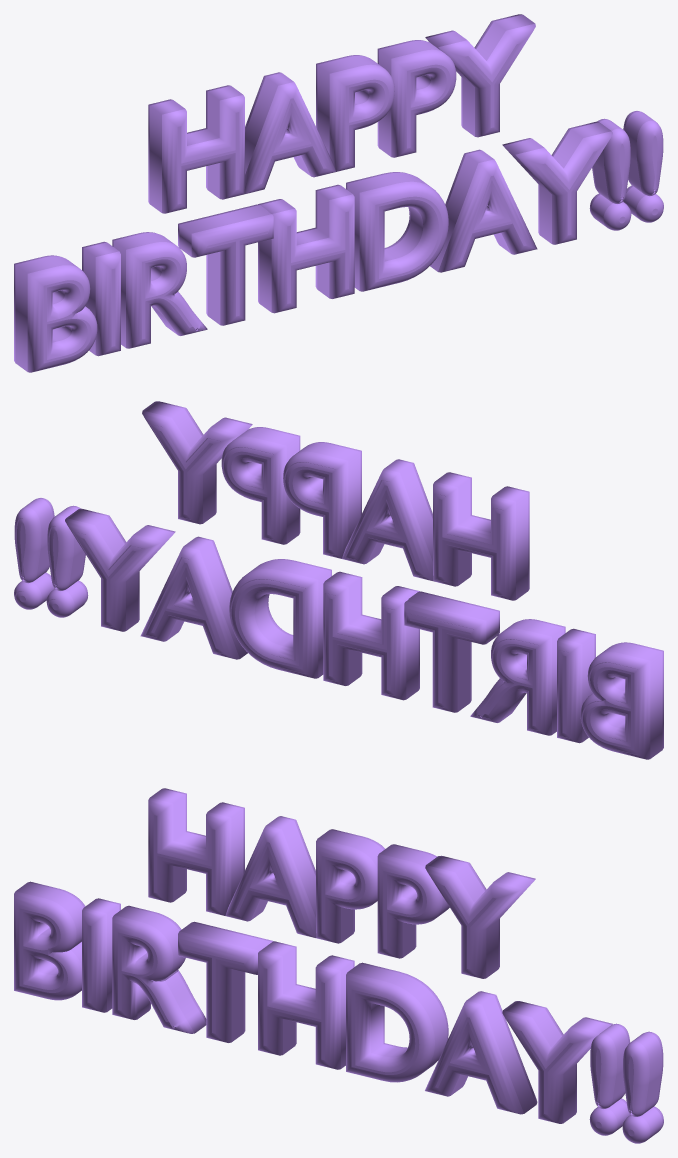
Rendered from happy_birthday.glb.
3 renders of one model, top to bottom at view 1: azimuth 30°, elevation 25°; view 2: azimuth 150°, elevation 25°; view 3: azimuth 330°, elevation 25°, orthographic.
Parts seen in each view (by area): view 1: node-0; view 2: node-0; view 3: node-0.
Part boxes in pixels (x1=…): node-0: x1=14, y1=14, x2=663, y2=372; node-0: x1=14, y1=401, x2=663, y2=759; node-0: x1=14, y1=788, x2=663, y2=1143.
Size of the model in its own units: 1.33 by 0.4538 by 0.0865.
